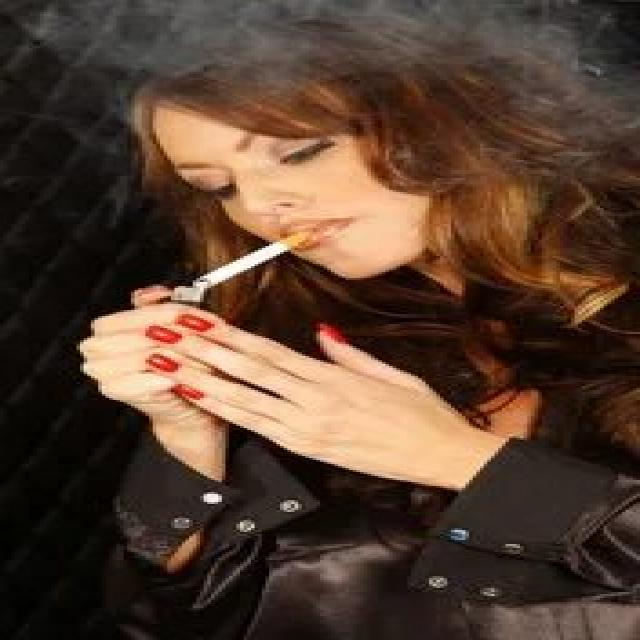cigarette: (196, 228, 324, 288)
